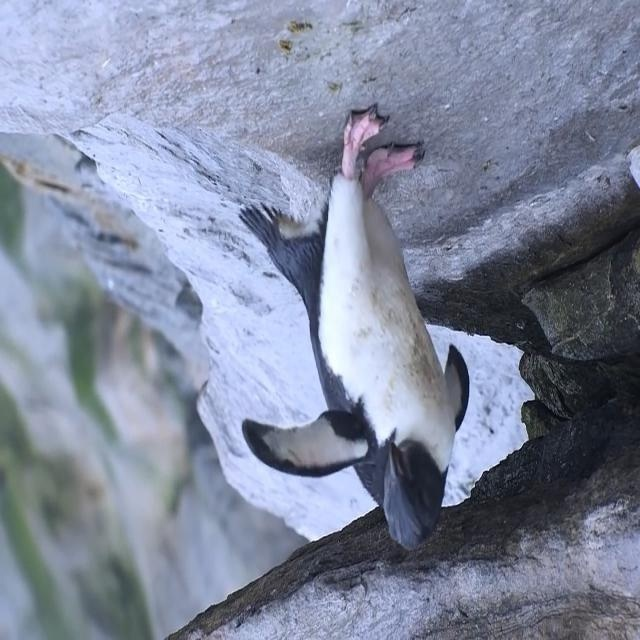penguin: (240, 108, 471, 548)
